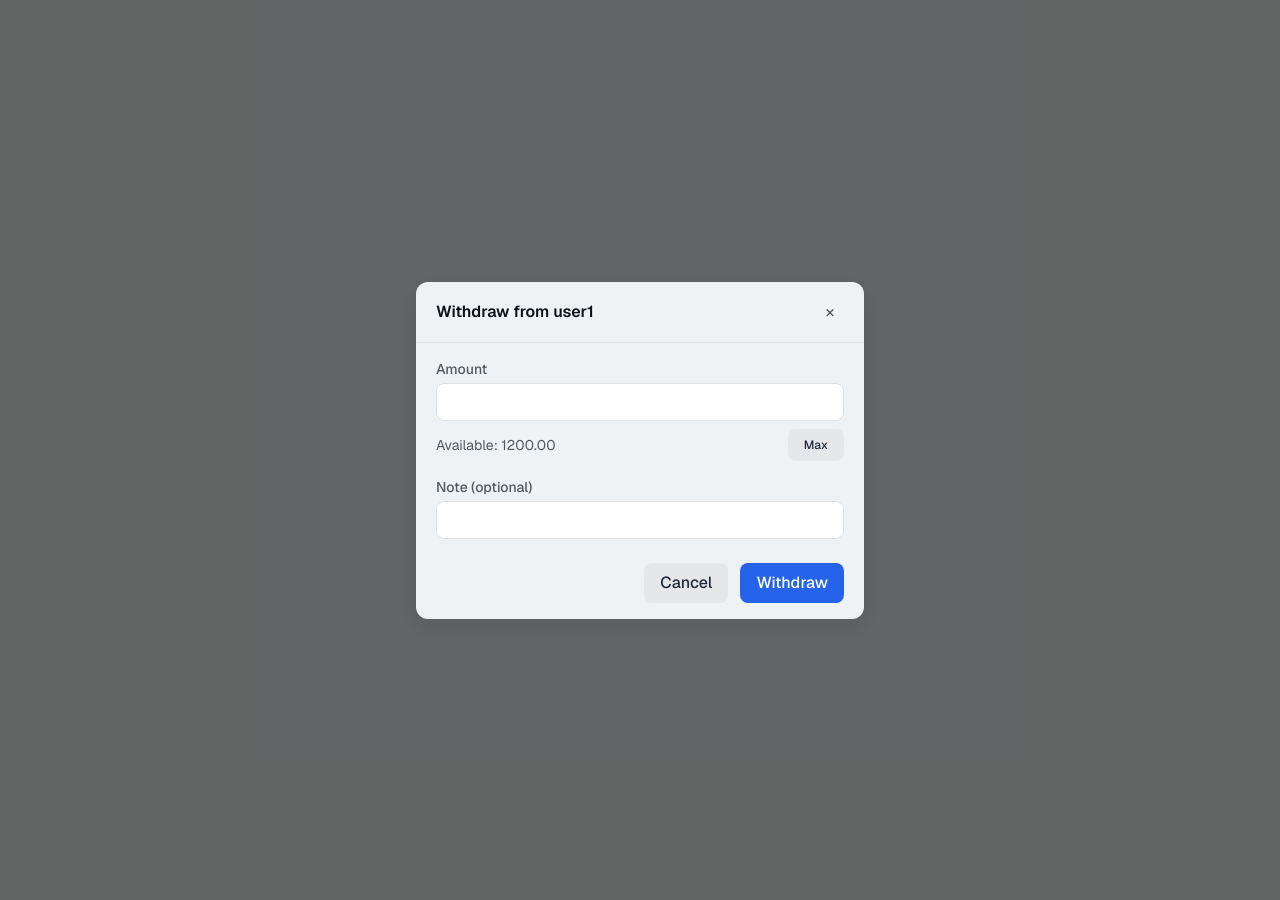
Test: AdjustBalanceModal (withdrawal Max UX) › Max fills the input with the displayed available amount
The width and height of the screenshot is (1280, 900).
Click the button "Max".
click(816, 444)  # box top-left (788, 428), bottom-right (844, 460)
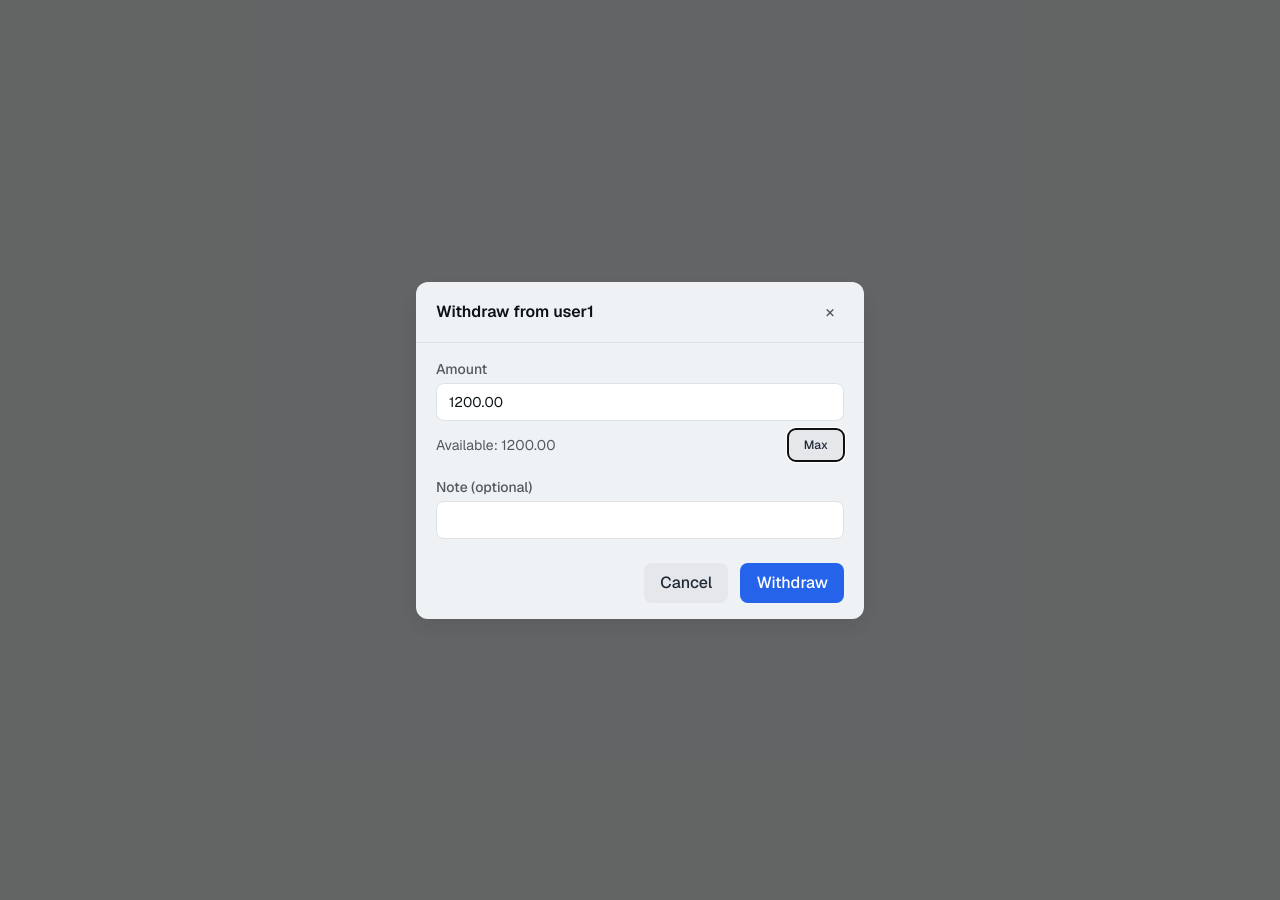
Check: the text "Available: 1200.00" is shown, box top-left (436, 434), bottom-right (556, 454)
Check: the number field labelled "Amount" holds "1200", box top-left (436, 382), bottom-right (844, 420)
